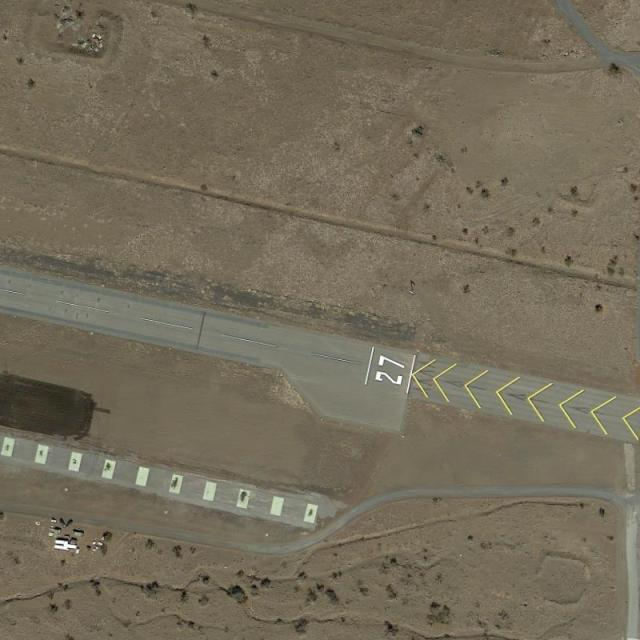vehicle: (66, 518, 76, 528), (59, 518, 67, 528)
